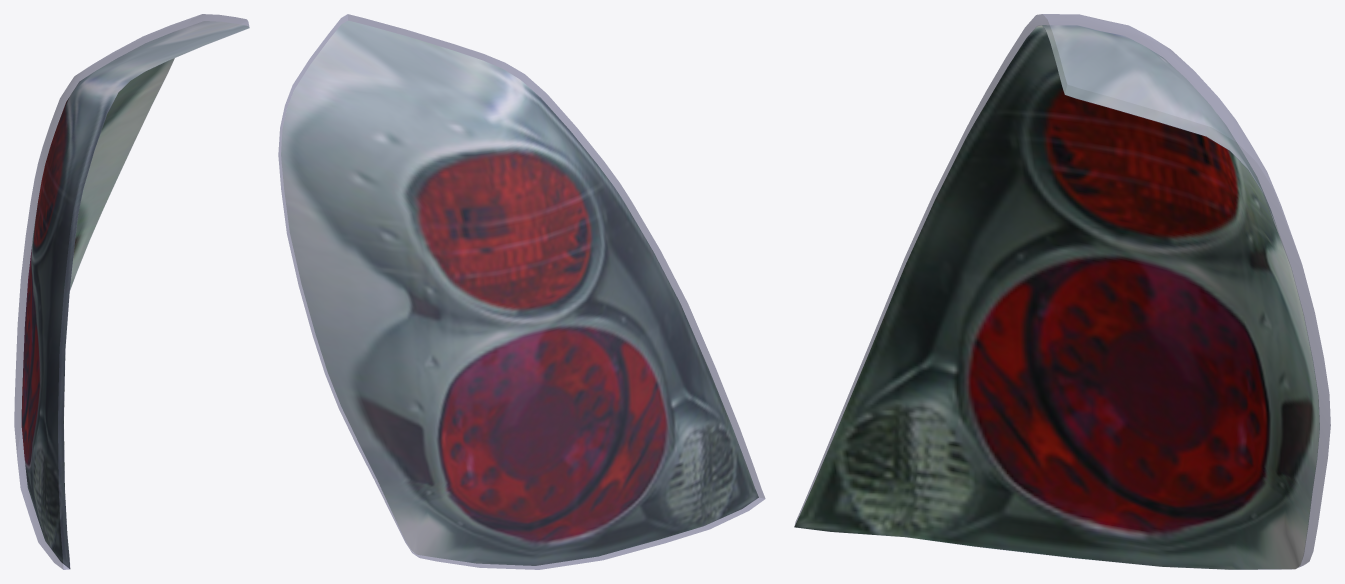
3 renders of one model, left to right at view 1: azimuth 30°, elevation 25°; view 2: azimuth 150°, elevation 25°; view 3: azimuth 270°, elevation 25°, orthographic. The views are drawn at different scales.
Parts seen in each view (by area): view 1: Z186_541C_L_Z186_541C_L_2_N, Z186_541C_L_1_DTaSI_Z186_541C_L; view 2: Z186_541C_L_1_DTaSI_Z186_541C_L, Z186_541C_L_Z186_541C_L_2_N; view 3: Z186_541C_L_Z186_541C_L_2_N, Z186_541C_L_1_DTaSI_Z186_541C_L.
Boxes of the visible parts, left/top/right/bottom form: Z186_541C_L_Z186_541C_L_2_N: left=21, top=21, right=249, bottom=568; Z186_541C_L_1_DTaSI_Z186_541C_L: left=14, top=14, right=249, bottom=569; Z186_541C_L_1_DTaSI_Z186_541C_L: left=278, top=14, right=765, bottom=569; Z186_541C_L_Z186_541C_L_2_N: left=281, top=20, right=758, bottom=565; Z186_541C_L_Z186_541C_L_2_N: left=794, top=25, right=1319, bottom=569; Z186_541C_L_1_DTaSI_Z186_541C_L: left=794, top=14, right=1330, bottom=569.
Size of the model in its own units: 26.21 by 38.07 by 28.68.
